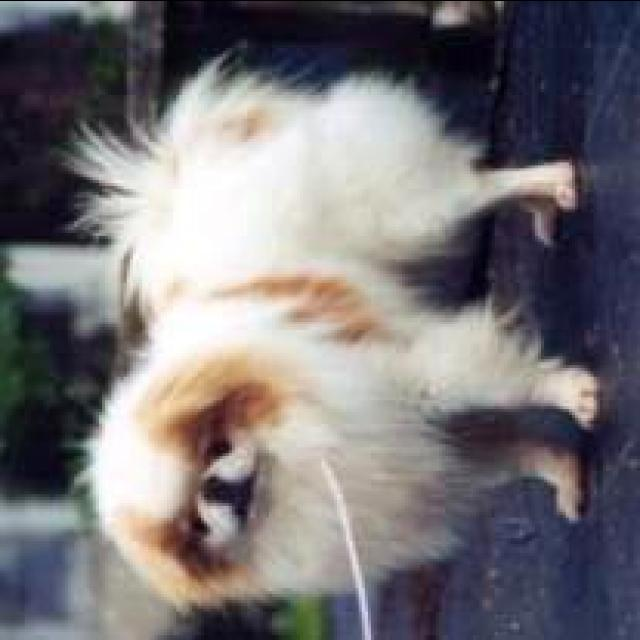husky: (62, 68, 609, 602)
